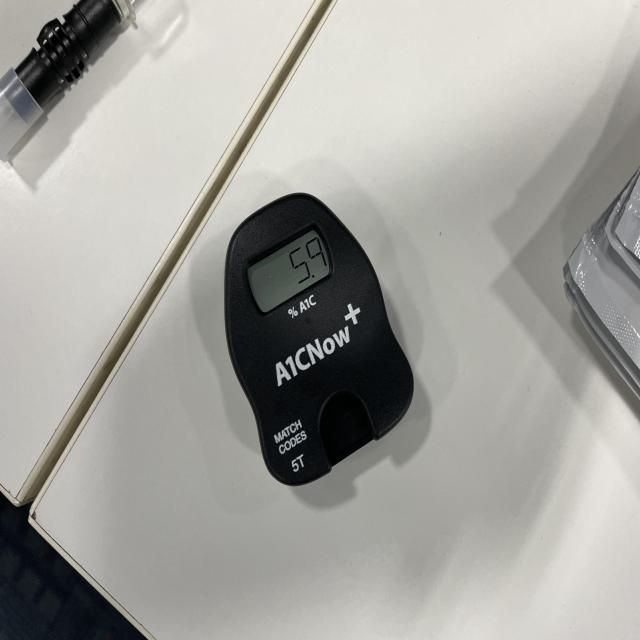hba1c: (222, 193, 416, 489)
